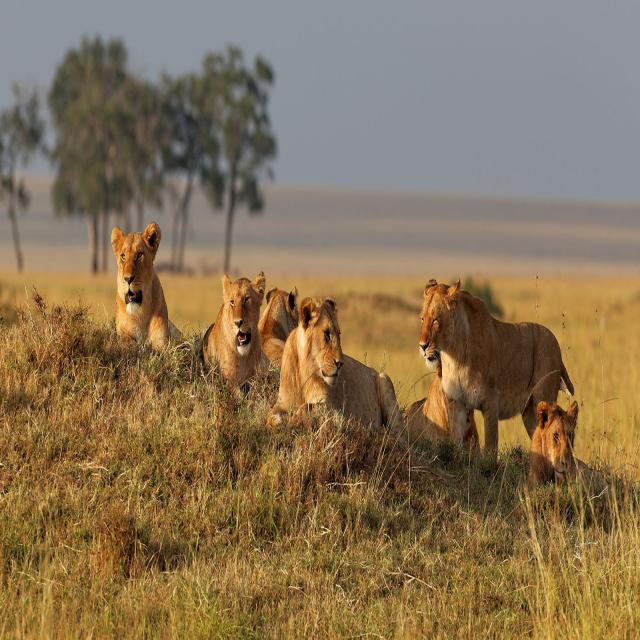Lion: (203, 272, 590, 485), (112, 223, 169, 348)
